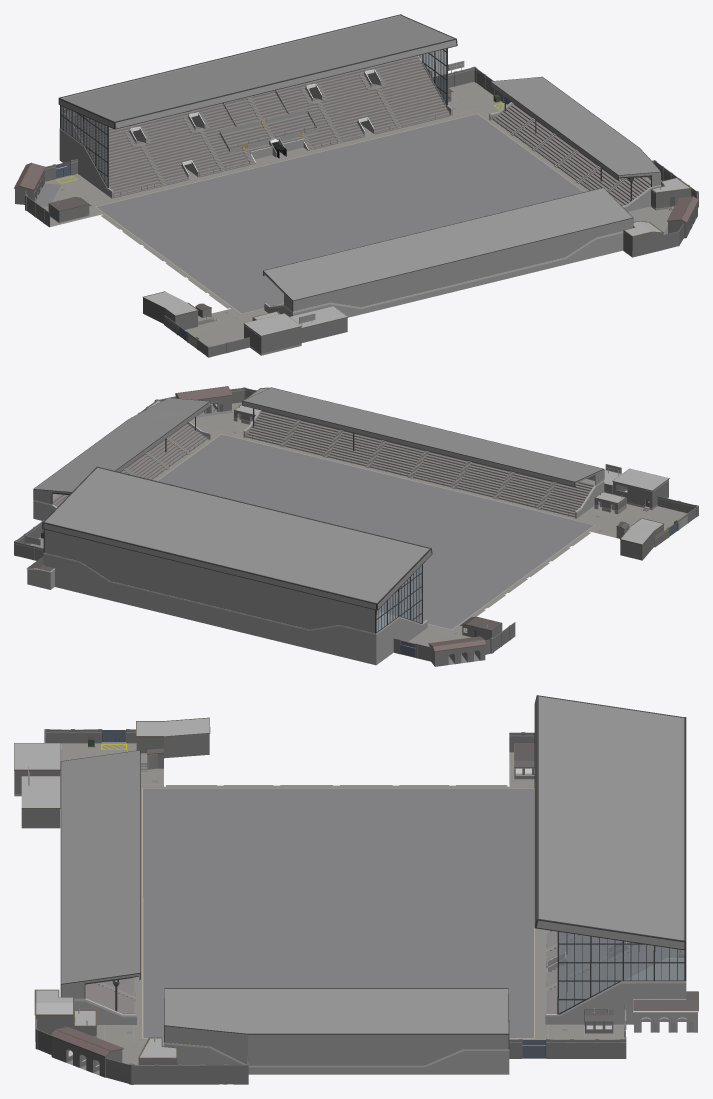
The model's file is stadium.glb.
The picture shows the model from 3 angles, top to bottom: view 1: azimuth 30°, elevation 25°; view 2: azimuth 150°, elevation 25°; view 3: azimuth 270°, elevation 25°; orthographic projection. The views are drawn at different scales.
Visible parts, largest first — view 1: stadium; view 2: stadium; view 3: stadium.
Part boxes in pixels (<box>): stadium: <box>14,14,698,357</box>; stadium: <box>14,386,698,666</box>; stadium: <box>14,695,698,1084</box>.
Bounding box in the file's own units: 165 × 23.68 × 138.
